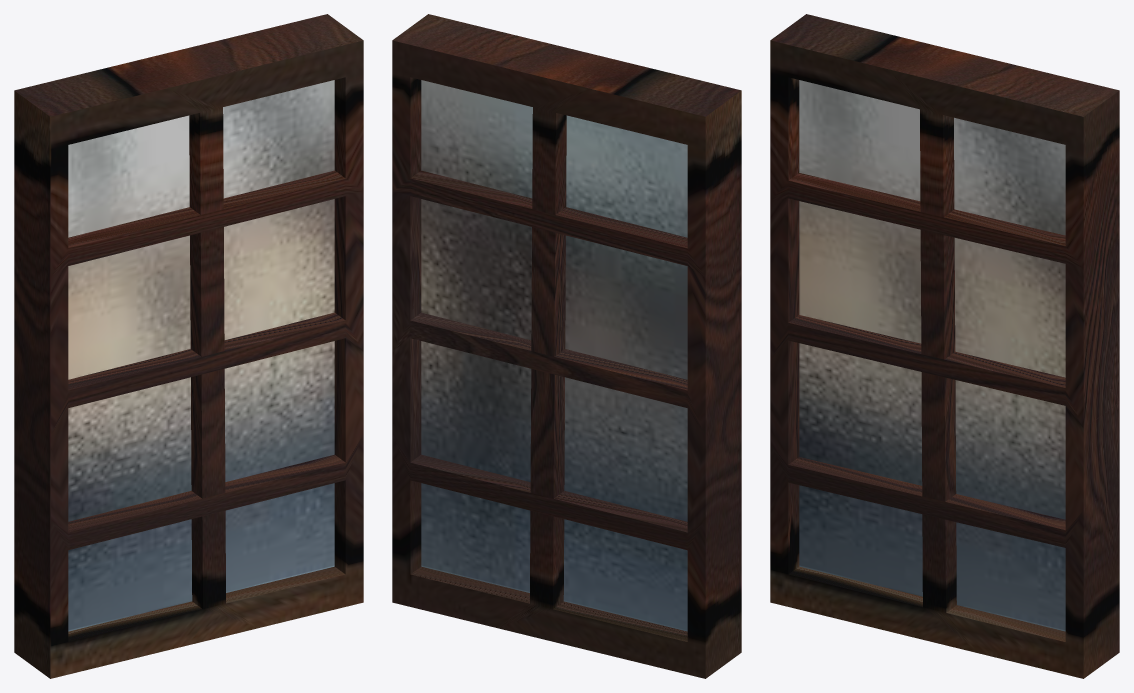
The model's file is ventana4.obj.
3 renders of one model, left to right at view 1: azimuth 30°, elevation 25°; view 2: azimuth 150°, elevation 25°; view 3: azimuth 330°, elevation 25°, orthographic.
Parts seen in each view (by area): view 1: VENTANA.002; view 2: VENTANA.002; view 3: VENTANA.002.
Boxes of the visible parts, x1,y1,x2,y2 form: VENTANA.002: (14,14,363,678); VENTANA.002: (392,14,741,678); VENTANA.002: (770,14,1119,678).
Bounding box in the file's own units: 3.03 × 5.2 × 0.6055.
2 materials, 2 textured.
